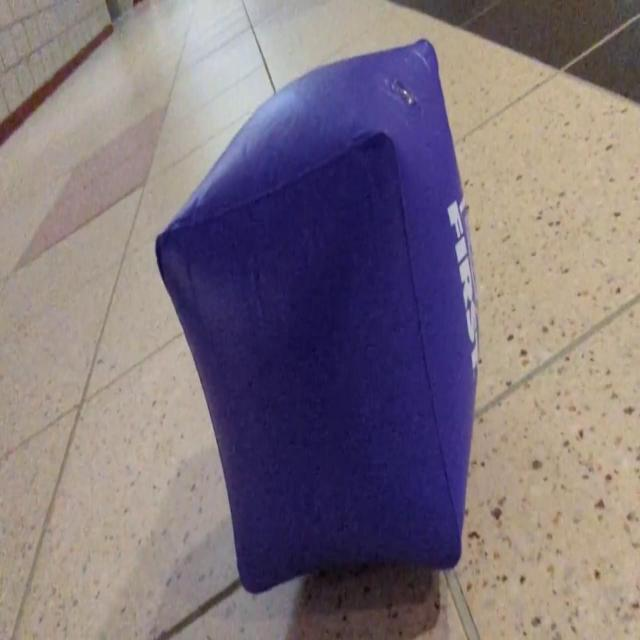frc_cube: (155, 38, 479, 596)
